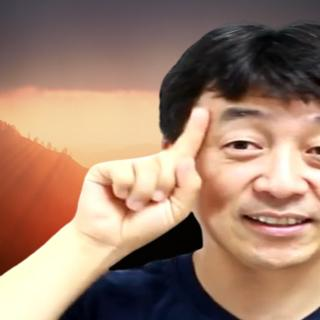IRRITATED: (66, 104, 213, 256)
